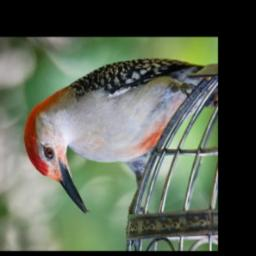Woodpecker: (24, 57, 217, 213)
